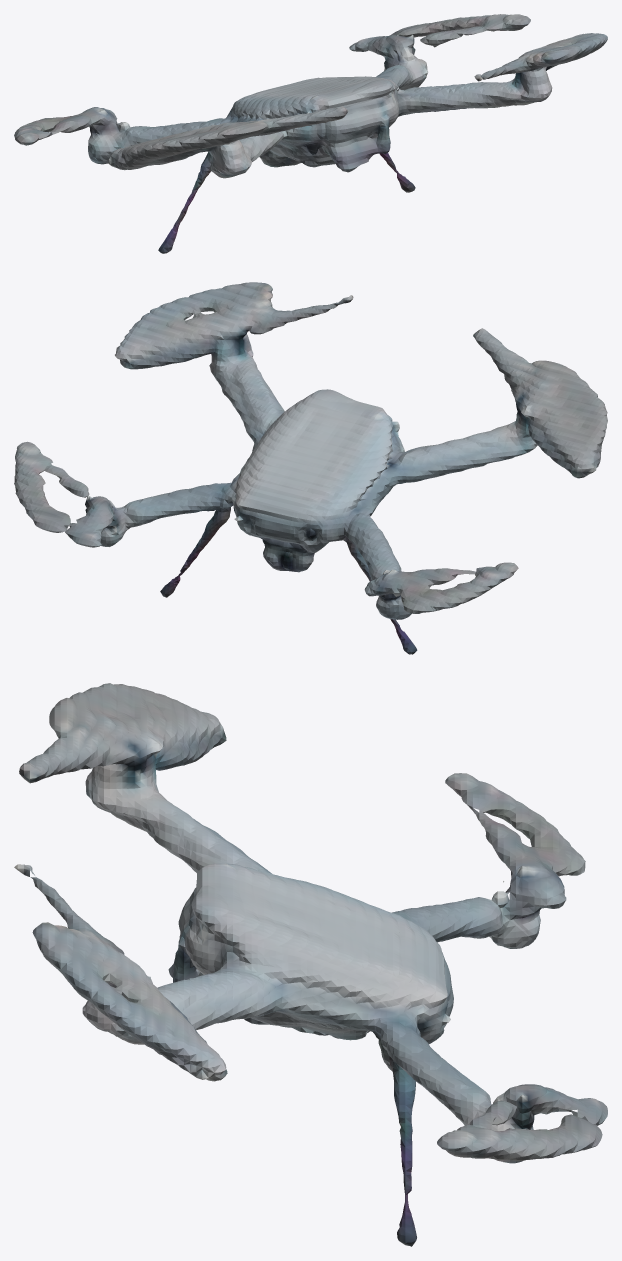
File: room-08-hero.glb
3 renders of one model, top to bottom at view 1: azimuth 30°, elevation 25°; view 2: azimuth 150°, elevation 25°; view 3: azimuth 270°, elevation 25°, orthographic. The views are drawn at different scales.
Visible parts, largest first — view 1: world; view 2: world; view 3: world.
Boxes of the visible parts, x1,y1,x2,y2 form: world: (14,14,607,253); world: (14,282,607,654); world: (14,683,607,1246).
Size of the model in its own units: 0.98 by 0.4165 by 0.6588.
